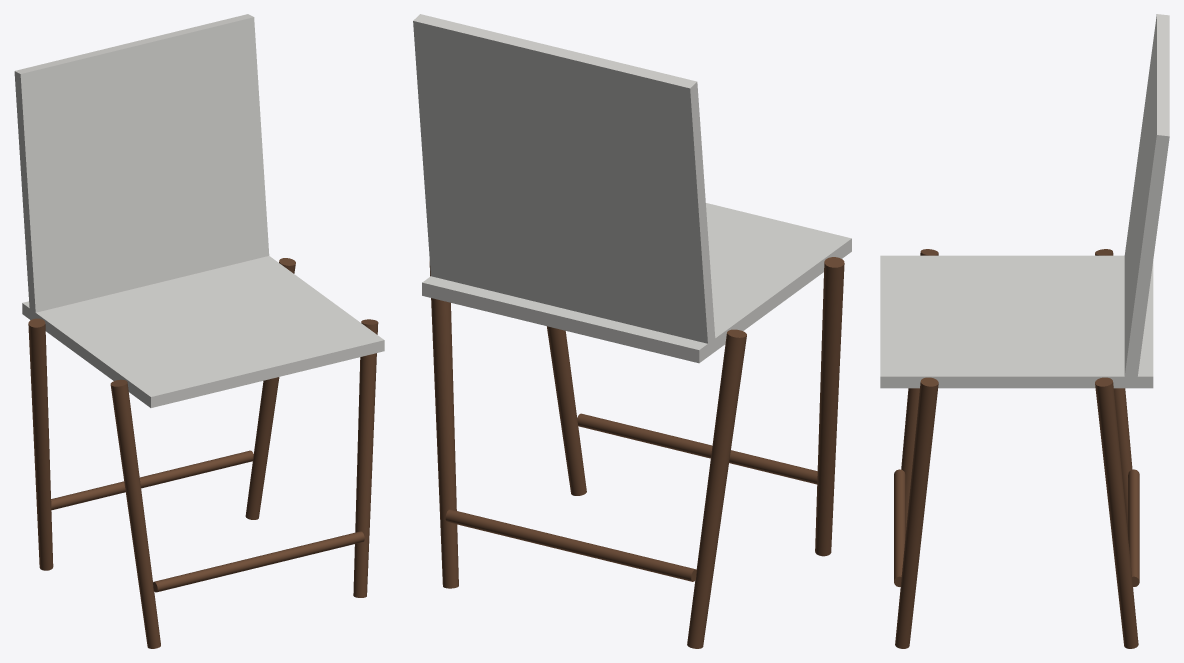
Rendered from chair-149.glb.
The picture shows the model from 3 angles, left to right: view 1: azimuth 30°, elevation 25°; view 2: azimuth 150°, elevation 25°; view 3: azimuth 270°, elevation 25°; orthographic projection. The views are drawn at different scales.
Visible parts, largest first — view 1: backrest, seat_pan, leg_4, leg_2, leg_3, stretcher_side_b, leg_1, stretcher_side_a; view 2: backrest, seat_pan, leg_2, leg_4, leg_1, stretcher_side_a, stretcher_side_b, leg_3; view 3: seat_pan, backrest, leg_3, leg_1, leg_4, leg_2, stretcher_side_a, stretcher_side_b.
Part boxes in pixels (left/top/right/bottom): backrest: left=14, top=14, right=269, bottom=316; seat_pan: left=22, top=256, right=384, bottom=407; leg_4: left=110, top=379, right=160, bottom=648; leg_2: left=28, top=318, right=53, bottom=570; leg_3: left=353, top=319, right=378, bottom=597; stretcher_side_b: left=153, top=531, right=364, bottom=592; leg_1: left=245, top=258, right=295, bottom=519; stretcher_side_a: left=51, top=450, right=253, bottom=510; backrest: left=413, top=14, right=715, bottom=349; seat_pan: left=422, top=203, right=851, bottom=363; leg_2: left=687, top=329, right=746, bottom=648; leg_4: left=815, top=257, right=844, bottom=556; leg_1: left=429, top=261, right=458, bottom=588; stretcher_side_a: left=445, top=509, right=696, bottom=581; stretcher_side_b: left=577, top=413, right=817, bottom=484; leg_3: left=547, top=326, right=586, bottom=495; seat_pan: left=880, top=255, right=1153, bottom=388; backrest: left=1124, top=14, right=1169, bottom=382; leg_3: left=895, top=377, right=938, bottom=648; leg_1: left=1095, top=377, right=1138, bottom=648; leg_4: left=901, top=249, right=938, bottom=533; leg_2: left=1095, top=249, right=1132, bottom=533; stretcher_side_a: left=1128, top=469, right=1139, bottom=586; stretcher_side_b: left=894, top=469, right=905, bottom=586.
Size of the model in its own units: 0.5001 by 0.8792 by 0.4451.
